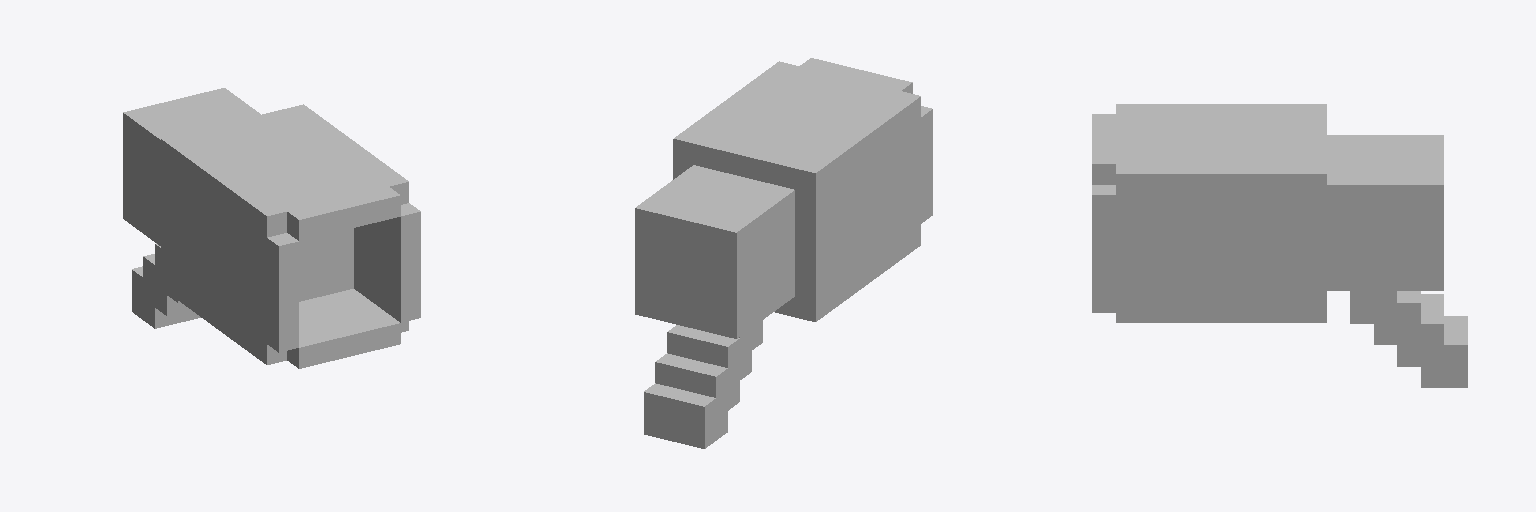
Rendered from cam.obj.
The picture shows the model from 3 angles: view 1: azimuth 30°, elevation 25°; view 2: azimuth 150°, elevation 25°; view 3: azimuth 270°, elevation 25°; orthographic projection.
Parts seen in each view (by area): view 1: object 1; view 2: object 1; view 3: object 1.
Part boxes in pixels (left/top/right/bottom): object 1: left=123, top=88, right=420, bottom=368; object 1: left=635, top=58, right=932, bottom=448; object 1: left=1092, top=104, right=1467, bottom=387.
Bounding box in the file's own units: 0.7 × 1.1 × 1.6.